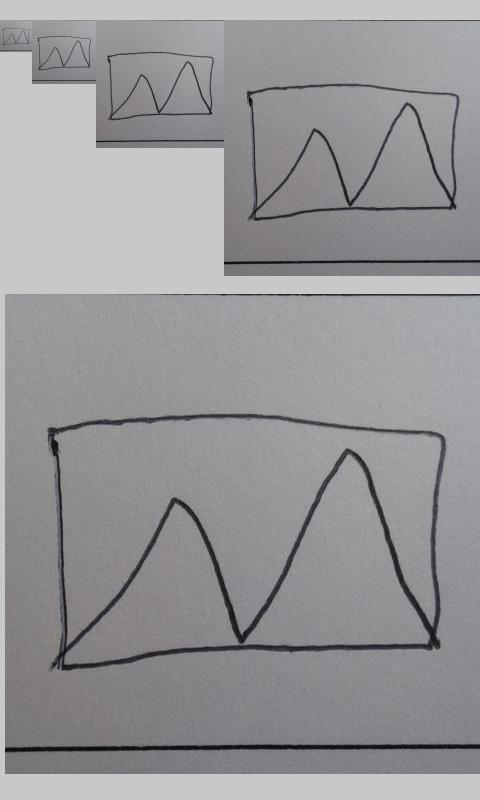image_view: (47, 412, 447, 674), (247, 82, 460, 221), (107, 49, 214, 120), (37, 35, 91, 71), (2, 27, 30, 45)
